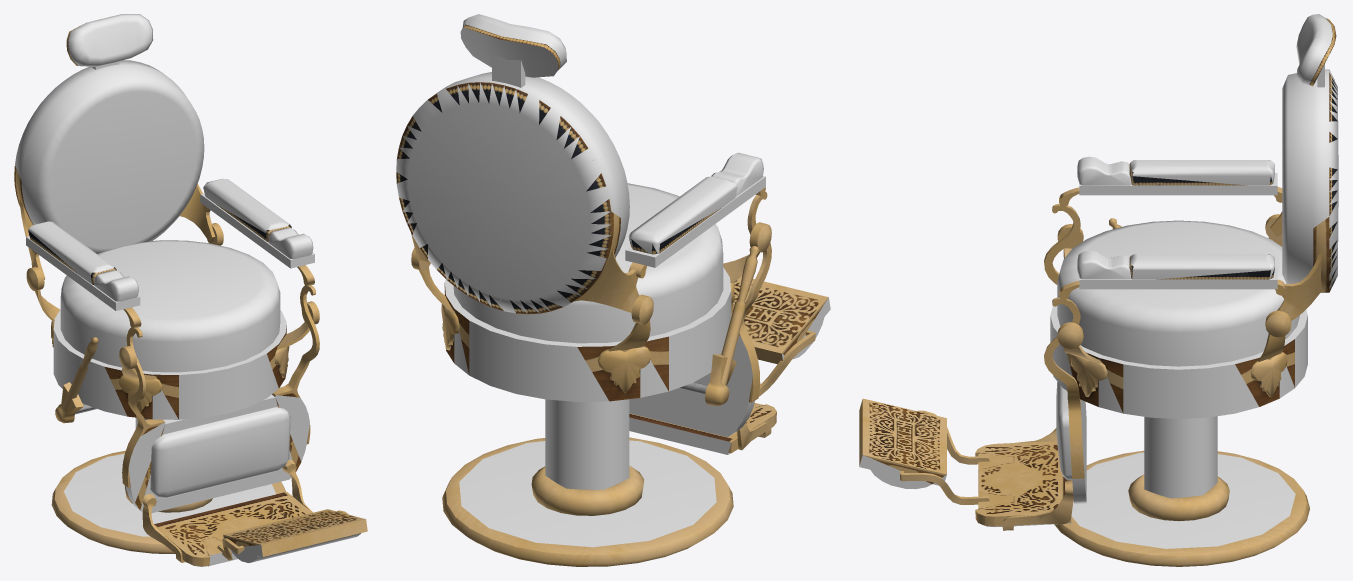
The picture shows the model from 3 angles, left to right: view 1: azimuth 30°, elevation 25°; view 2: azimuth 150°, elevation 25°; view 3: azimuth 270°, elevation 25°; orthographic projection. The views are drawn at different scales.
Parts seen in each view (by area): view 1: a, b, trim; view 2: a, b, trim; view 3: a, b, trim.
Boxes of the visible parts, x1,y1,x2,y2 form: a: (21,14,361,561); b: (15,60,314,566); trim: (14,25,367,566); a: (396,14,737,436); b: (396,28,830,547); trim: (396,24,828,566); a: (1056,14,1338,498); b: (859,48,1337,548); trim: (859,18,1337,566).
Bounding box in the file's own units: 0.7565 × 1.49 × 1.33.
Materials: 3 (1 with a texture image).
